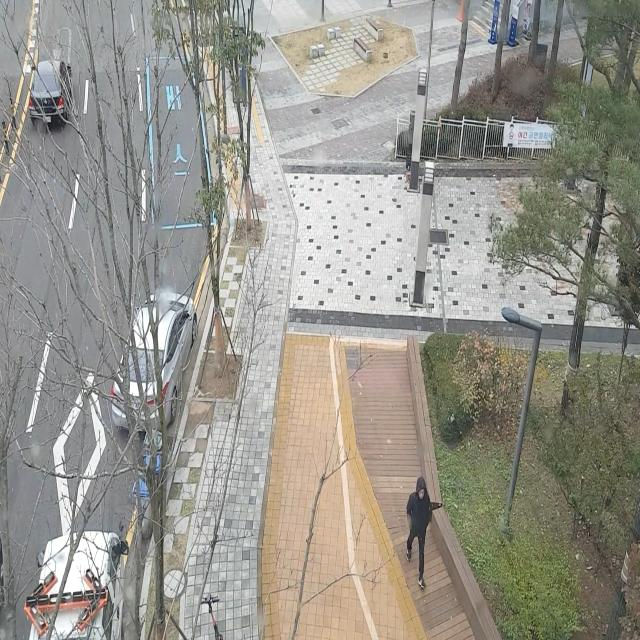Car: (91, 253, 205, 443), (22, 47, 84, 137)
Truck: (15, 509, 138, 640)
